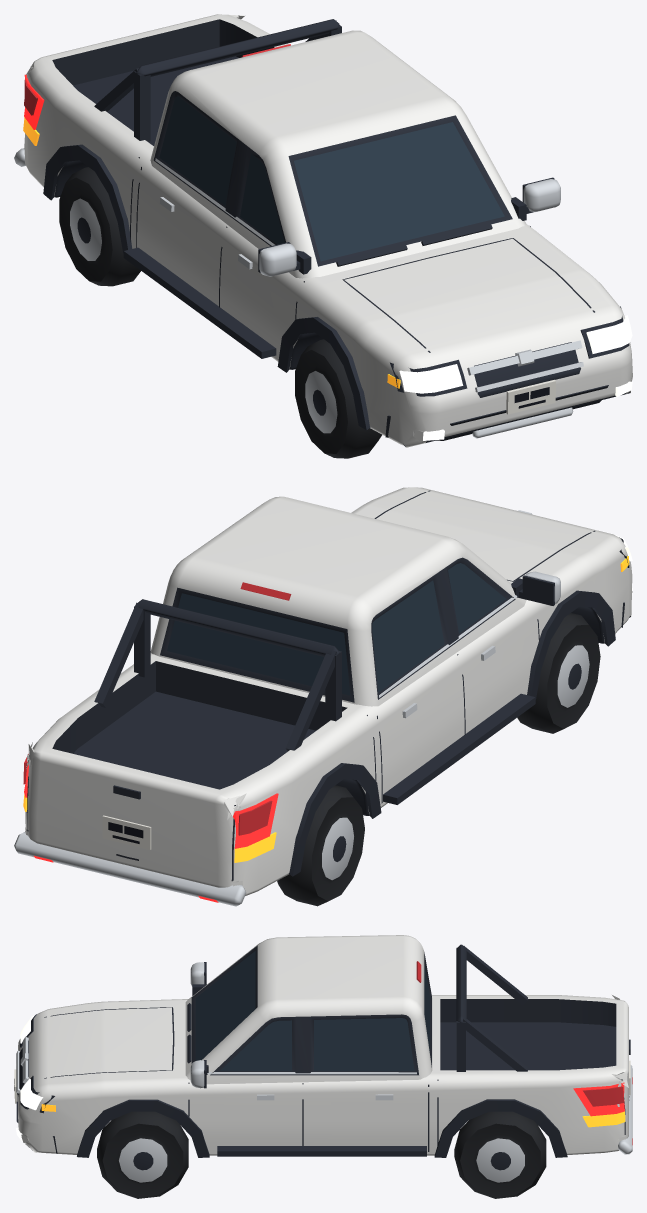
File: veh_pickup.glb
3 views of the same model, one above another, from view 1: azimuth 30°, elevation 25°; view 2: azimuth 150°, elevation 25°; view 3: azimuth 270°, elevation 25° (orthographic). The views are drawn at different scales.
Parts seen in each view (by area): view 1: body, wheel_FR, wheel_RR, head_lights, mirror_R, mirror_L; view 2: body, wheel_RR, wheel_FR, mirror_R, brake_lights; view 3: body, wheel_RL, wheel_FL, brake_lights, head_lights, mirror_L, mirror_R.
Boxes of the visible parts, x1,y1,x2,y2 form: body: (14, 14, 632, 447); wheel_FR: (295, 339, 381, 458); wheel_RR: (59, 167, 140, 286); head_lights: (399, 315, 632, 440); mirror_R: (258, 242, 311, 276); mirror_L: (511, 177, 560, 220); body: (14, 487, 632, 906); wheel_RR: (277, 785, 364, 906); wheel_FR: (517, 613, 600, 733); mirror_R: (511, 571, 560, 605); brake_lights: (23, 582, 291, 835); body: (14, 935, 632, 1157); wheel_RL: (454, 1111, 546, 1198); wheel_FL: (97, 1111, 188, 1198); brake_lights: (416, 961, 623, 1106); head_lights: (16, 1015, 43, 1140); mirror_L: (190, 1060, 208, 1088); mirror_R: (190, 962, 206, 995).
Size of the model in its own units: 2.24 by 1.79 by 5.32.
